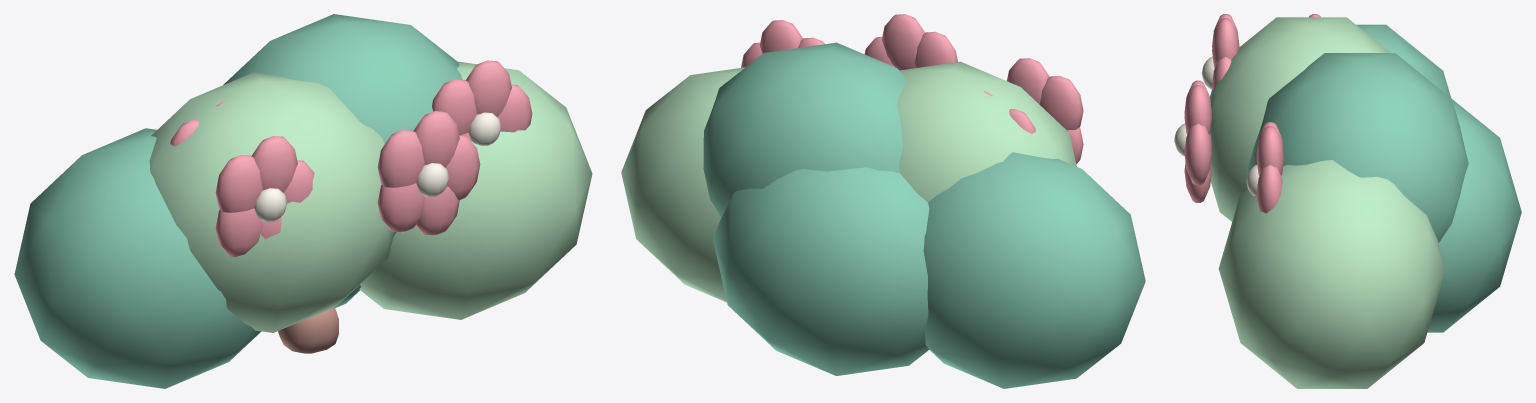
File: meadow_bush_0.glb
The picture shows the model from 3 angles, left to right: view 1: azimuth 30°, elevation 25°; view 2: azimuth 150°, elevation 25°; view 3: azimuth 270°, elevation 25°; orthographic projection. The views are drawn at different scales.
Parts seen in each view (by area): view 1: LeafMass_0, LeafMass_1, LeafMass_3, LeafMass_2, Flower_4_Petal_2, Flower_3_Petal_2, Root, Flower_4_Petal_1, Flower_3_Petal_1, Flower_0_Petal_1, Flower_4_Petal_3, Flower_3_Petal_3 (+8 smaller); view 2: LeafMass_0, LeafMass_4, LeafMass_2, LeafMass_3, LeafMass_1, Flower_4_Petal_1, Flower_3_Petal_2, Flower_3_Petal_1, Flower_4_Petal_2, Flower_0_Petal_1; view 3: LeafMass_3, LeafMass_2, LeafMass_1, LeafMass_4, LeafMass_0, Flower_4_Petal_0, Flower_0_Petal_1, Flower_4_Petal_1, Flower_0_Petal_0, Flower_3_Petal_1, Flower_4_Petal_4, Flower_3_Petal_0.
Part boxes in pixels (box(x1,y1,x2,y2)): LeafMass_0: box(14, 128, 261, 388); LeafMass_1: box(149, 72, 394, 332); LeafMass_3: box(359, 61, 592, 319); LeafMass_2: box(223, 14, 462, 237); Flower_4_Petal_2: box(377, 130, 424, 187); Flower_3_Petal_2: box(215, 155, 262, 212); Root: box(278, 307, 338, 353); Flower_4_Petal_1: box(413, 111, 459, 167); Flower_3_Petal_1: box(252, 136, 297, 192); Flower_0_Petal_1: box(466, 60, 511, 116); Flower_4_Petal_3: box(377, 183, 424, 232); Flower_3_Petal_3: box(215, 208, 262, 256); LeafMass_0: box(923, 152, 1145, 388); LeafMass_4: box(712, 167, 929, 375); LeafMass_2: box(703, 42, 905, 217); LeafMass_3: box(621, 67, 745, 302); LeafMass_1: box(897, 61, 1076, 202); Flower_4_Petal_1: box(881, 14, 925, 70); Flower_3_Petal_2: box(1039, 75, 1083, 130); Flower_3_Petal_1: box(1007, 58, 1049, 104); Flower_4_Petal_2: box(914, 31, 957, 67); Flower_0_Petal_1: box(759, 20, 802, 53); LeafMass_3: box(1218, 160, 1445, 388); LeafMass_2: box(1246, 53, 1468, 242); LeafMass_1: box(1210, 17, 1390, 221); LeafMass_4: box(1427, 99, 1521, 332); LeafMass_0: box(1356, 24, 1450, 97); Flower_4_Petal_0: box(1184, 123, 1211, 185); Flower_0_Petal_1: box(1256, 126, 1283, 175); Flower_4_Petal_1: box(1184, 85, 1211, 134); Flower_0_Petal_0: box(1256, 165, 1282, 213); Flower_3_Petal_1: box(1212, 18, 1239, 67); Flower_4_Petal_4: box(1184, 162, 1211, 202); Flower_3_Petal_0: box(1212, 57, 1231, 90).
Size of the model in its own units: 3.3 by 1.83 by 2.02.
